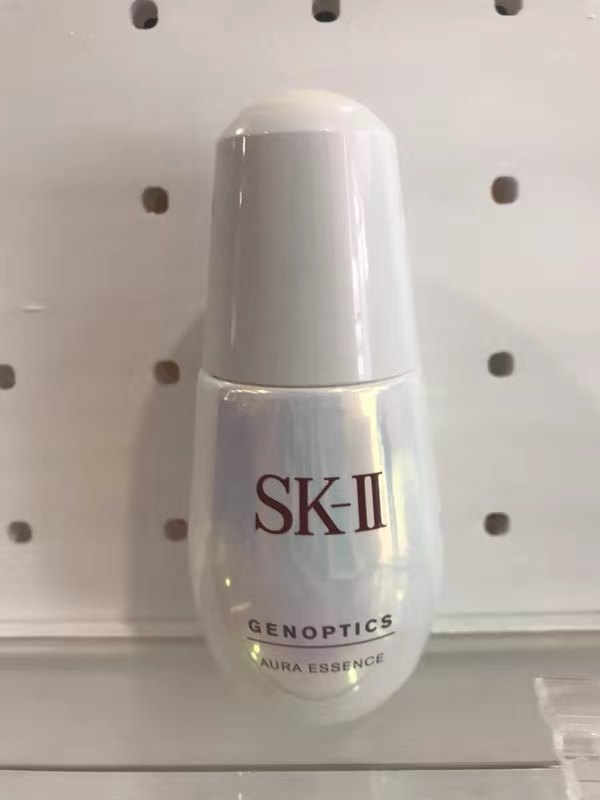sk2: (166, 73, 457, 749)
